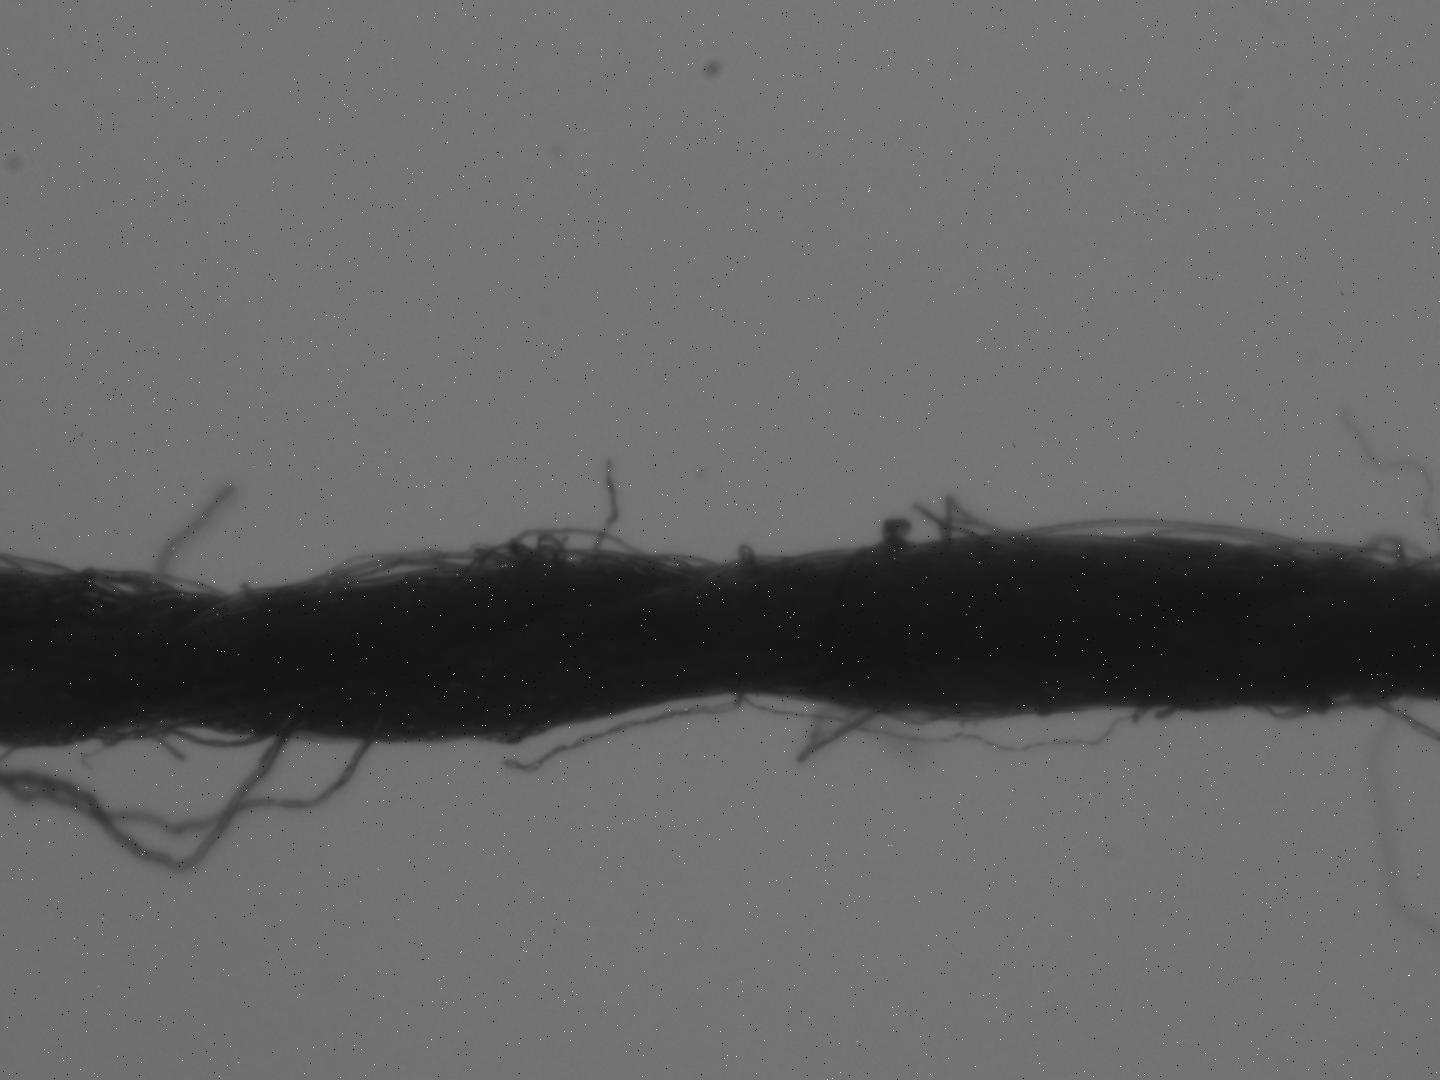loop_fiber: (464, 523, 661, 577), (313, 546, 520, 590), (1250, 539, 1435, 569), (82, 567, 231, 602), (939, 501, 1025, 547), (79, 573, 189, 600), (1253, 695, 1362, 722), (1337, 537, 1415, 572), (168, 727, 278, 750), (880, 702, 964, 728), (527, 528, 573, 574), (1349, 693, 1403, 714)
protruding_fiber: (501, 697, 745, 771), (151, 490, 237, 594), (588, 461, 619, 567)
